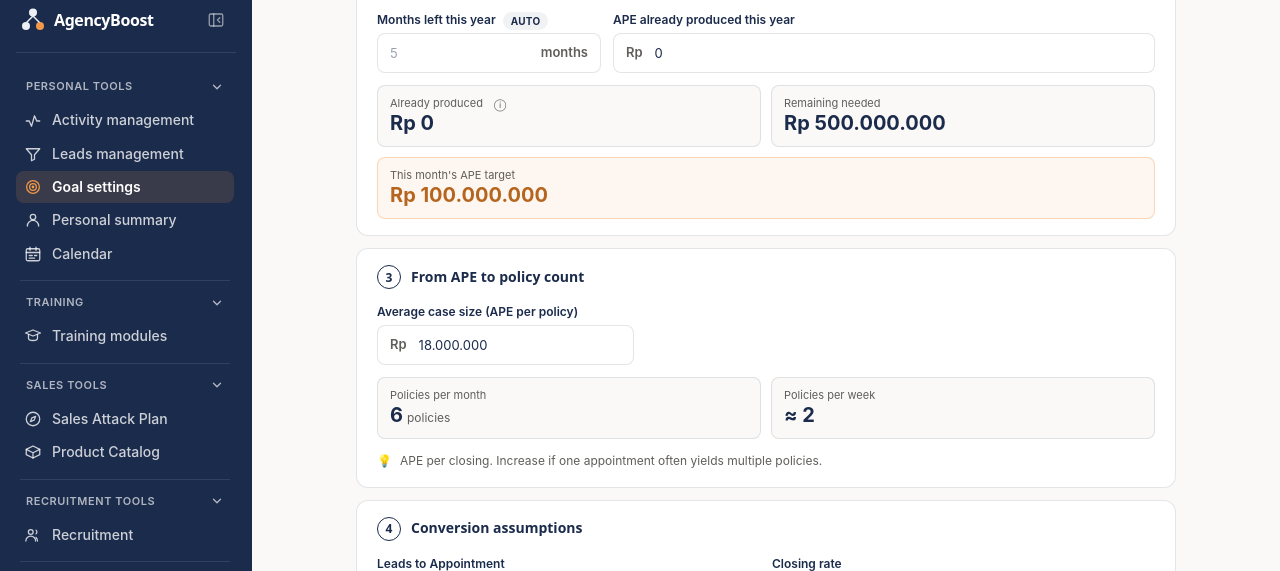
Test: Goal Settings (P8-T3) › AC-2 — the server is the only source of the numbers › sends the six inputs and renders what comes back
(page scrolled)
Step 1. Replace the text in the field labelled "Average case size (APE per policy)" with "9000000" → (526, 345), box x1=419 y1=326 x2=633 y2=364
(page scrolled)
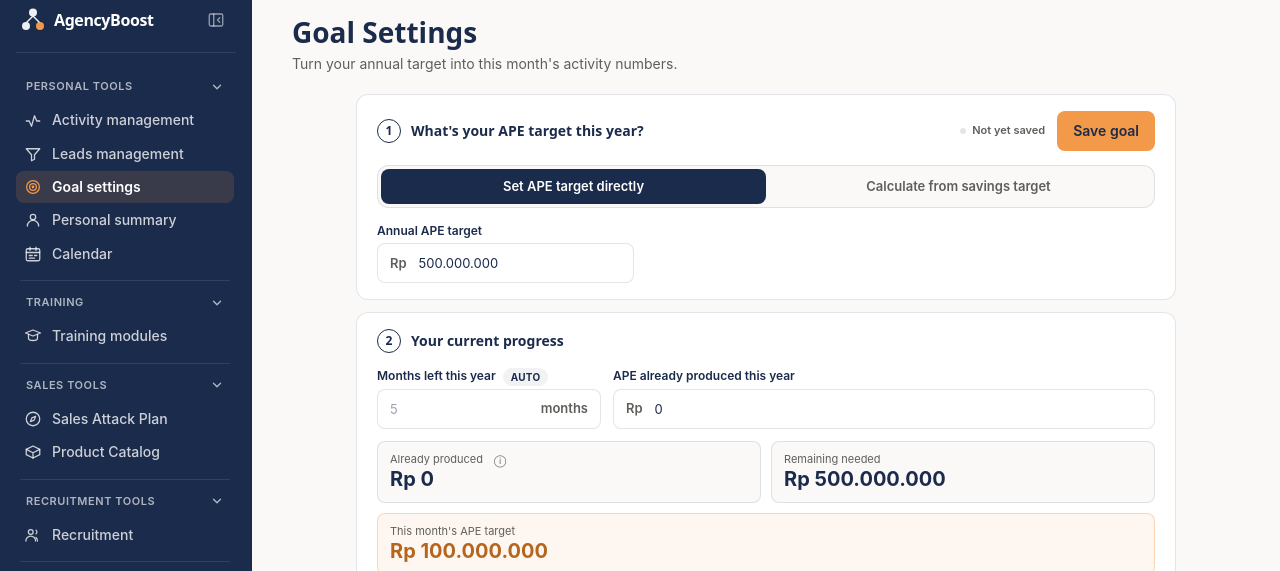
Step 2. Click the button "Save goal" → (1106, 131), box x1=1057 y1=111 x2=1155 y2=151
(page scrolled)
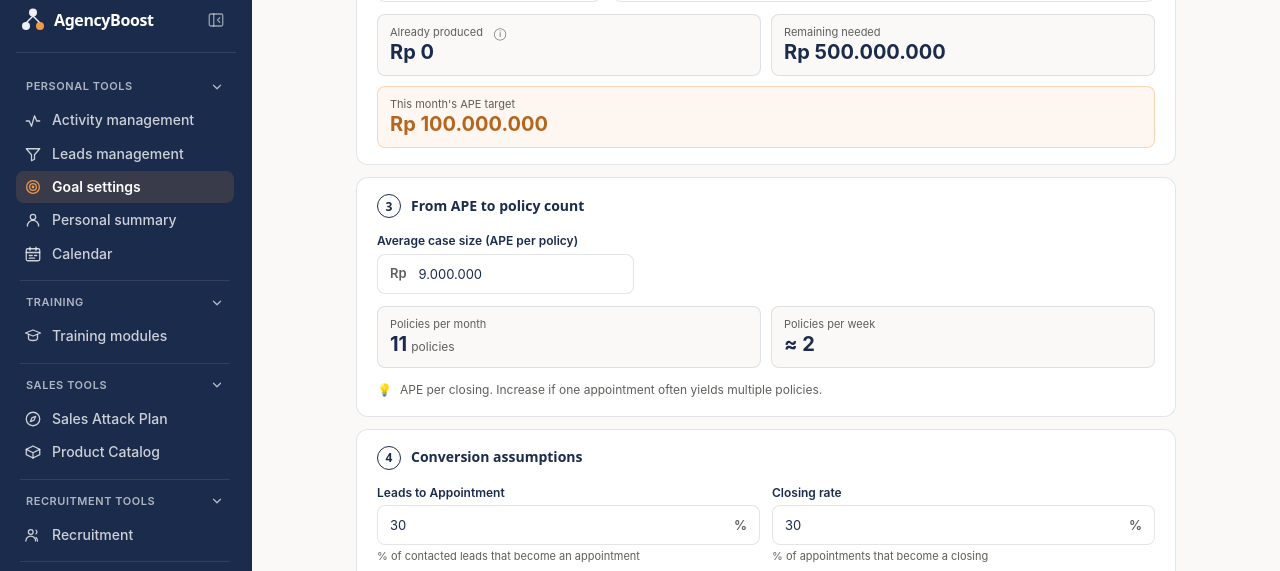
Expected: the text "11" is shown, x1=390 y1=332 x2=407 y2=356
